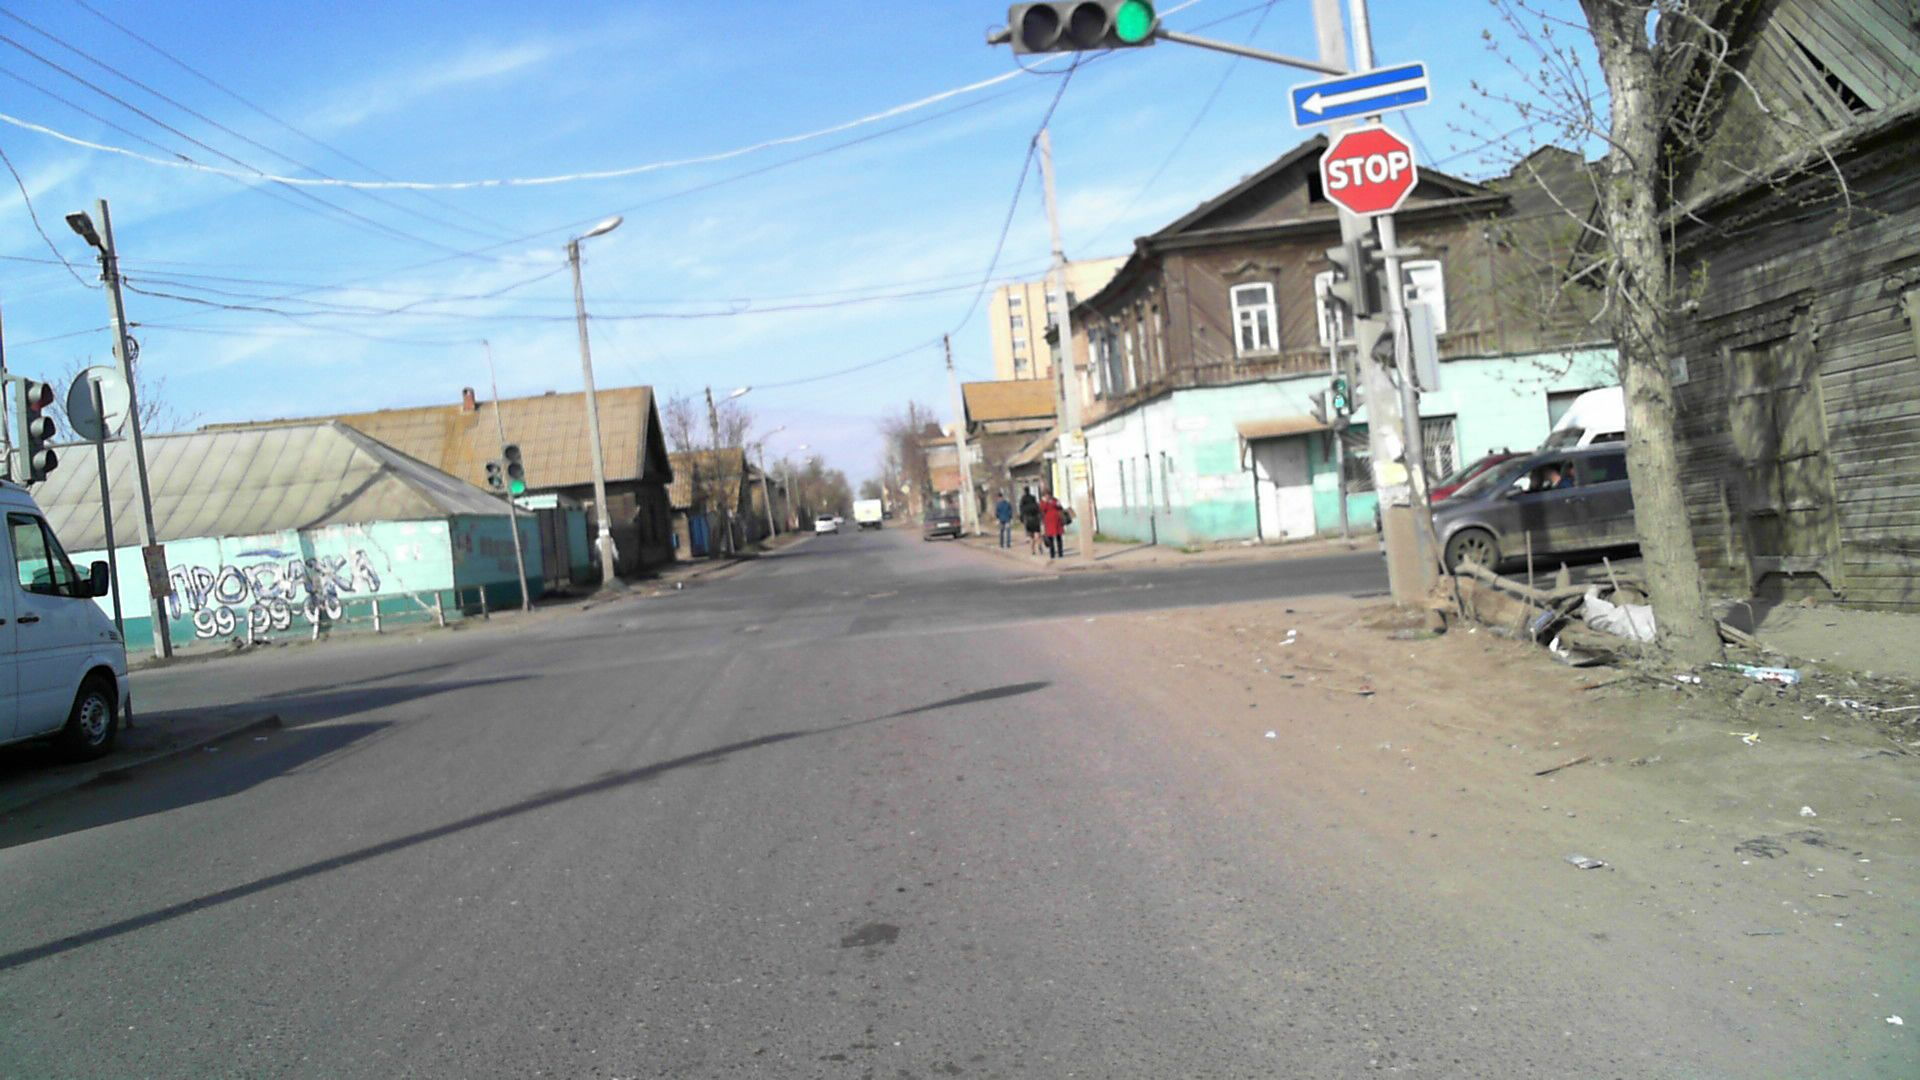One-Way Traffic: (1292, 62, 1428, 125)
